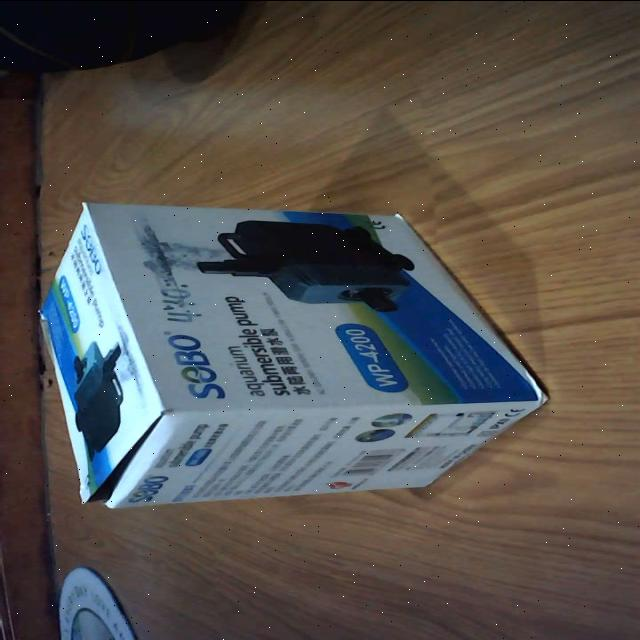SOBO_WP_4200: (25, 197, 555, 510)
